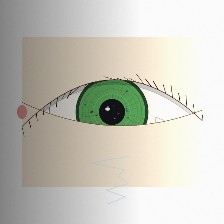foreign_body_visible: (125, 123, 161, 152)
